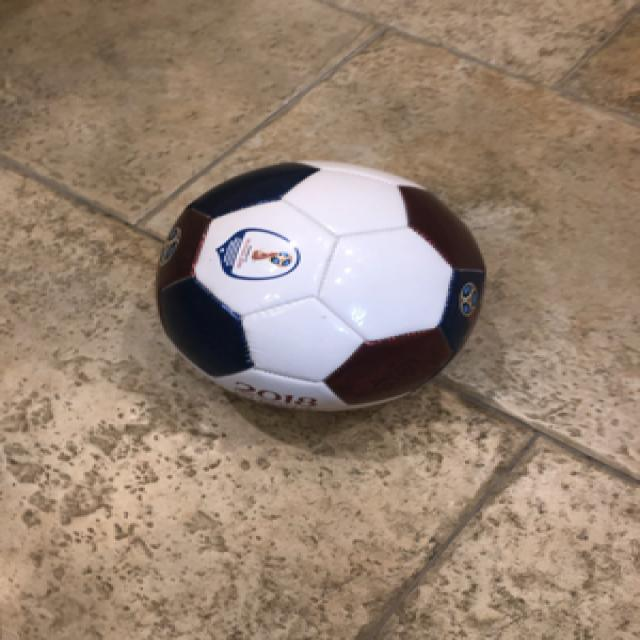soccer_ball: (150, 155, 487, 411)
